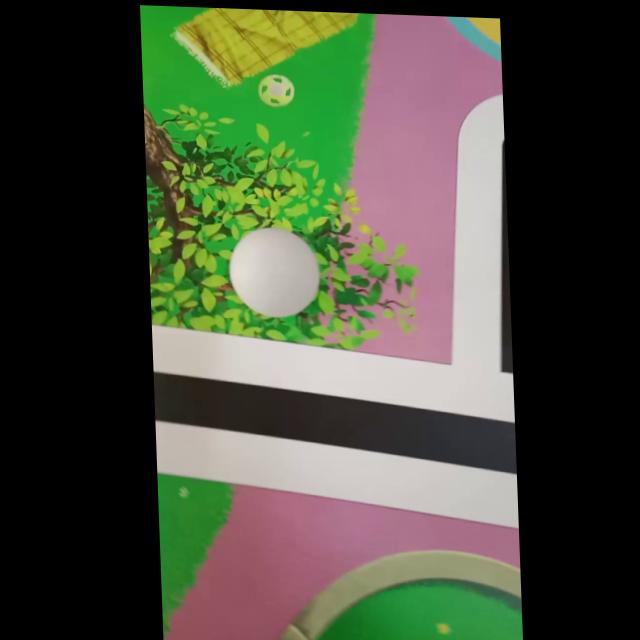white ball: (226, 225, 321, 320)
